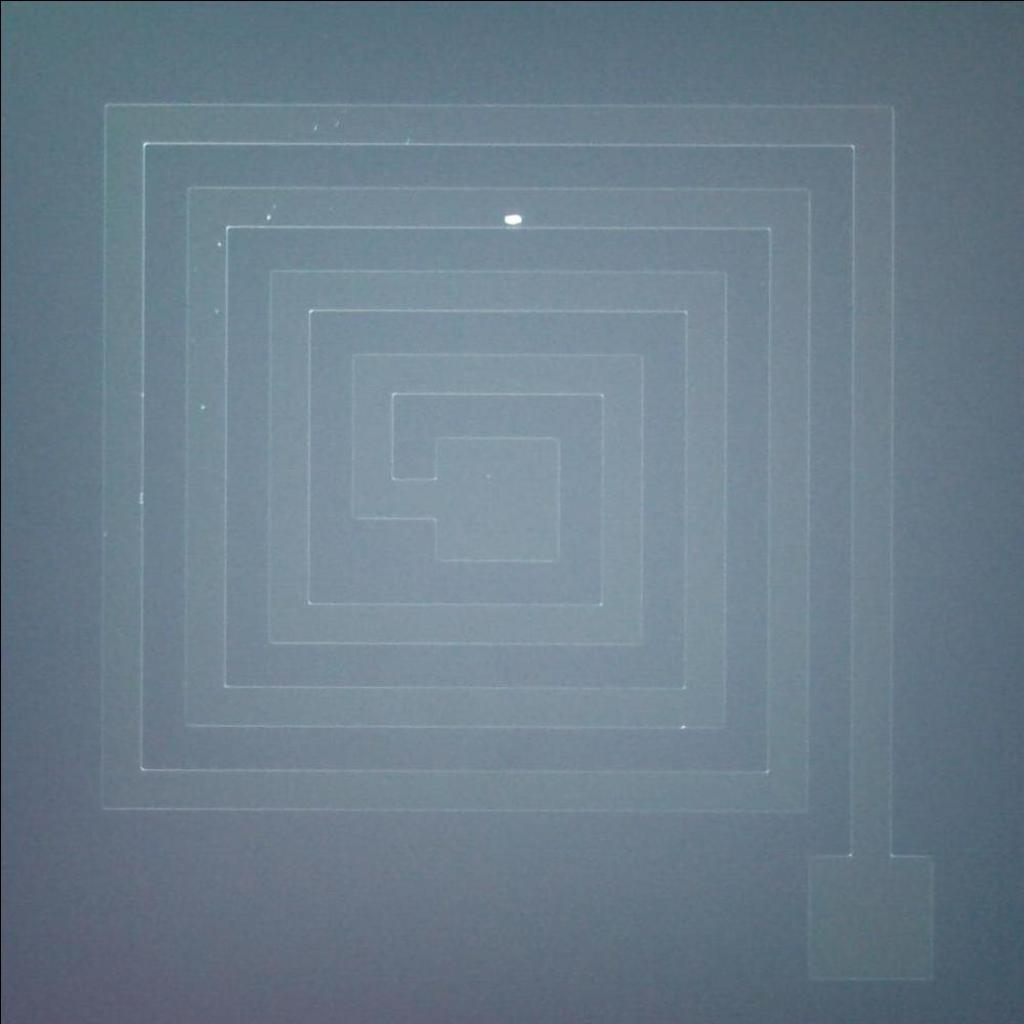dot: (190, 389, 220, 421), (202, 231, 228, 259)
spot: (494, 203, 529, 234)
